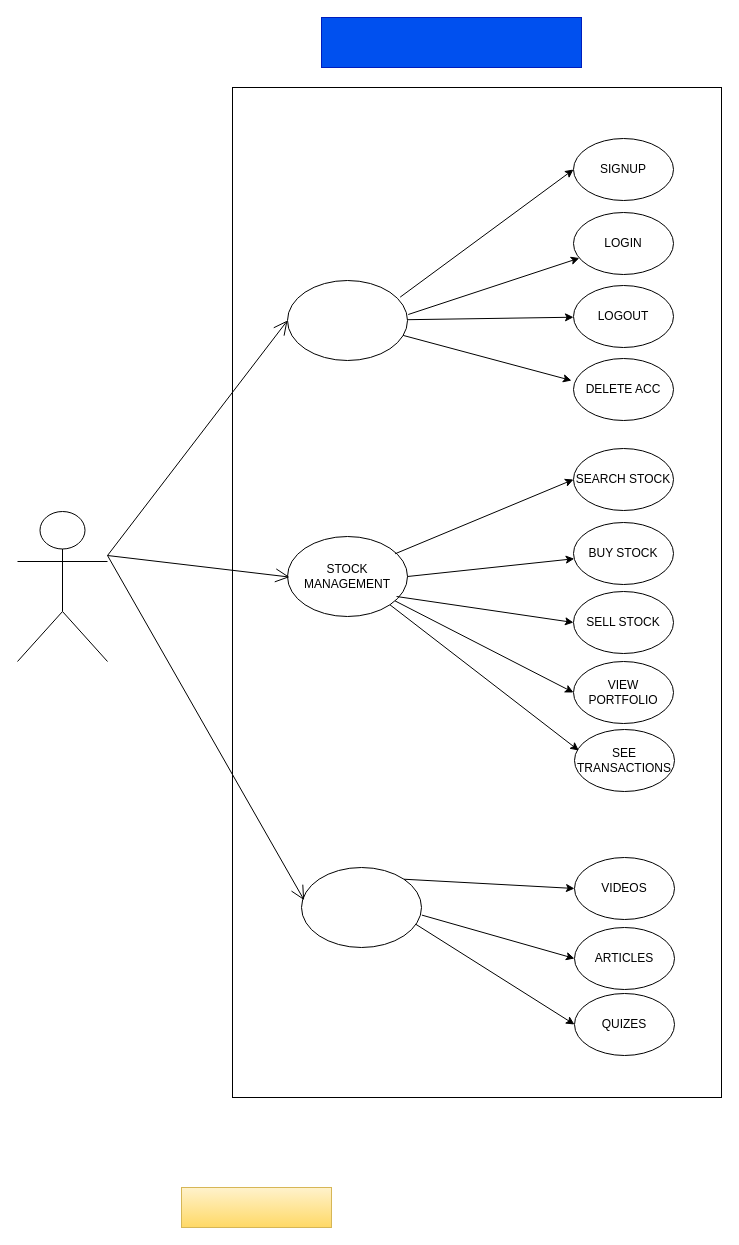
This 739x1245 diagram has some shape labels left out. Here are the shapes that lost their labels. From the top down, the centre of each, then its label:
(451,42): USECASE LEVEL 1
(347,320): USER AUTHENTICATION
(62,586): USER
(361,907): LEARNING MATERIAL
(256,1207): STOCK MARKET SIMULATOR
